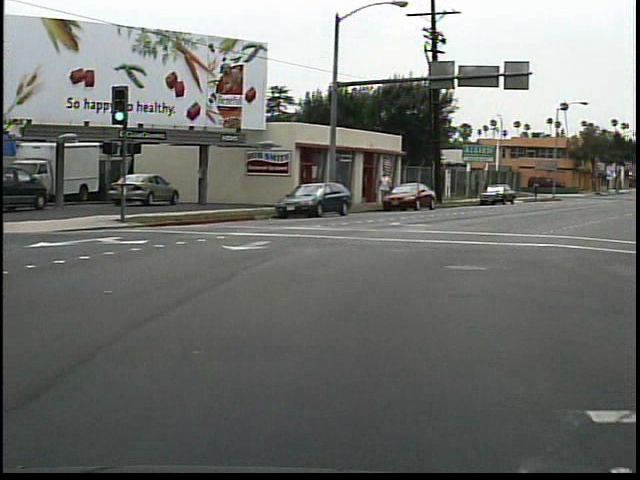person: (373, 166, 397, 211), (531, 178, 543, 205)
